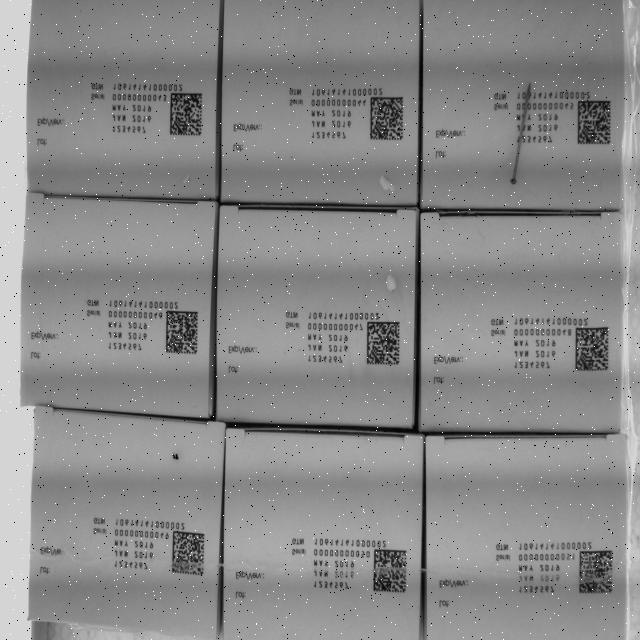datamatrix: (168, 530, 205, 578), (573, 324, 610, 372), (373, 548, 410, 595), (167, 91, 204, 138), (164, 309, 200, 357), (364, 320, 400, 368), (369, 95, 405, 143), (578, 549, 614, 596), (577, 99, 613, 146)
